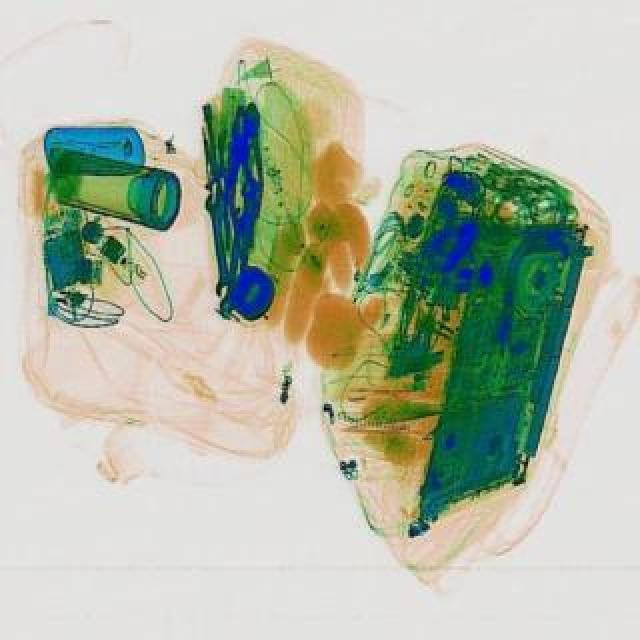scissors: (204, 194, 240, 302)
wrench: (226, 106, 274, 226), (226, 110, 258, 218)
